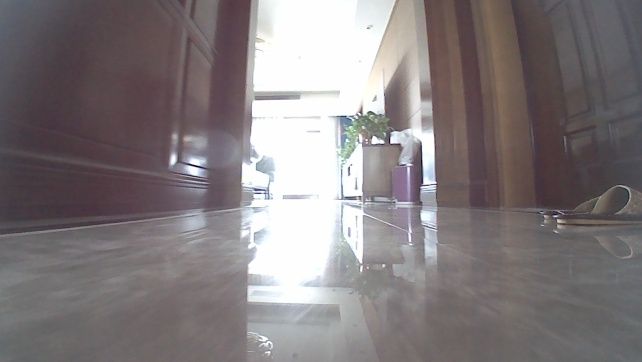TV_stand1: (339, 140, 403, 203)
slipper: (539, 181, 641, 227)
